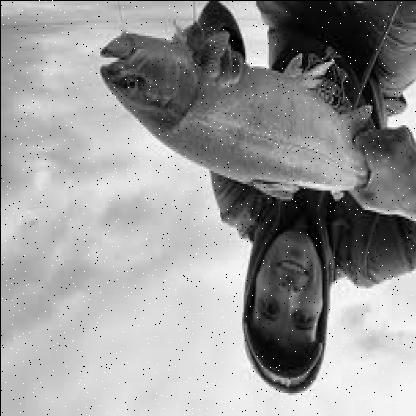fish: (101, 29, 386, 202)
